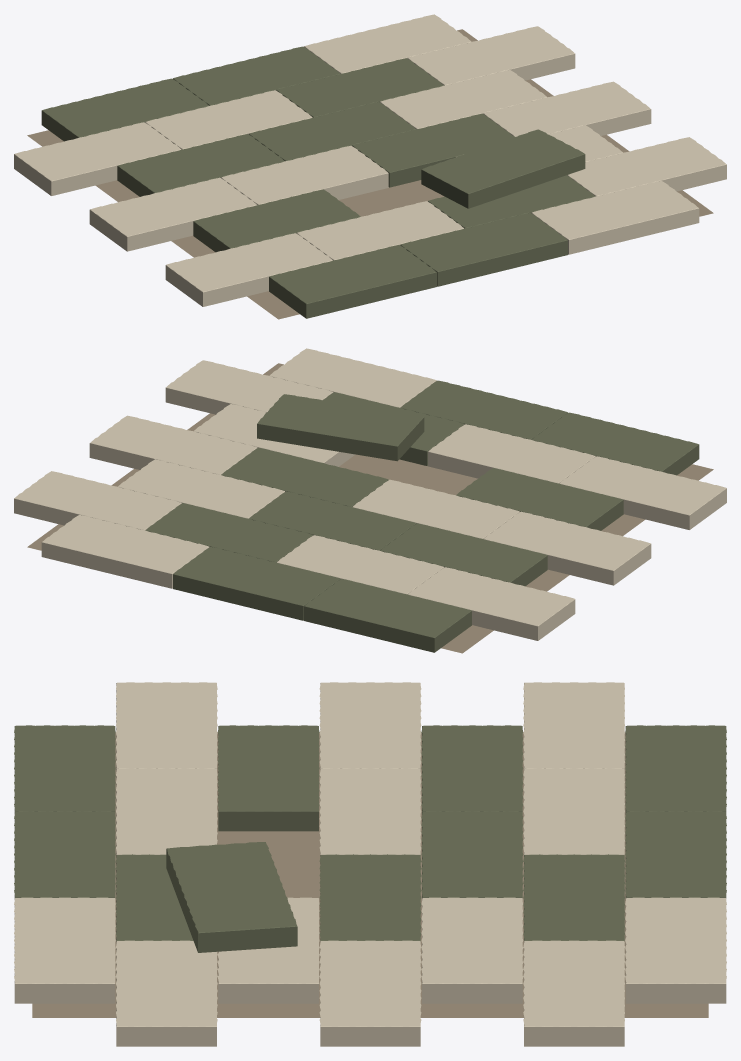
The model's file is terilgan.glb.
3 views of the same model, one above another, from view 1: azimuth 30°, elevation 25°; view 2: azimuth 150°, elevation 25°; view 3: azimuth 270°, elevation 25° (orthographic). The views are drawn at different scales.
Visible parts, largest first — view 1: t, t.008, t.002, t.001, t.010, t.017, t.003, t.020, t.011, t.013, t.006, t.021 (+13 smaller); view 2: t.008, t.021, t.023, t.022, t.010, t.003, t.017, t.013, t.020, t.004, t, t.007 (+13 smaller); view 3: qum, t.008, t.002, t.023, t.007, t.016, t.013, t.020, t.006, t, t.021, t.001 (+13 smaller).
Part boxes in pixels (x1=…): t: x1=269, y1=245, x2=436, y2=318; t.008: x1=421, y1=129, x2=585, y2=208; t.002: x1=531, y1=181, x2=699, y2=254; t.001: x1=400, y1=213, x2=567, y2=286; t.010: x1=89, y1=177, x2=256, y2=251; t.017: x1=14, y1=122, x2=181, y2=195; t.003: x1=165, y1=233, x2=332, y2=306; t.020: x1=407, y1=26, x2=575, y2=85; t.011: x1=221, y1=145, x2=388, y2=204; t.013: x1=483, y1=81, x2=651, y2=136; t.006: x1=567, y1=137, x2=726, y2=196; t.021: x1=41, y1=78, x2=208, y2=141; t.008: x1=257, y1=394, x2=424, y2=461; t.021: x1=304, y1=579, x2=471, y2=652; t.023: x1=41, y1=515, x2=209, y2=588; t.022: x1=173, y1=547, x2=340, y2=620; t.010: x1=484, y1=511, x2=651, y2=585; t.003: x1=559, y1=456, x2=726, y2=529; t.017: x1=408, y1=567, x2=575, y2=640; t.013: x1=89, y1=415, x2=257, y2=474; t.020: x1=14, y1=471, x2=181, y2=530; t.004: x1=428, y1=424, x2=595, y2=483; t: x1=532, y1=412, x2=699, y2=475; t.007: x1=456, y1=468, x2=623, y2=530; qum: x1=32, y1=732, x2=708, y2=1017; t.008: x1=166, y1=842, x2=297, y2=952; t.002: x1=14, y1=897, x2=115, y2=1003; t.023: x1=625, y1=897, x2=726, y2=1003; t.007: x1=217, y1=725, x2=319, y2=831; t.016: x1=421, y1=897, x2=523, y2=1003; t.013: x1=319, y1=940, x2=421, y2=1046; t.020: x1=523, y1=940, x2=624, y2=1046; t.006: x1=116, y1=940, x2=217, y2=1046; t: x1=14, y1=725, x2=115, y2=811; t.021: x1=625, y1=725, x2=726, y2=811; t.001: x1=14, y1=811, x2=115, y2=897.
Size of the model in its own units: 2 by 0.112 by 1.75.
